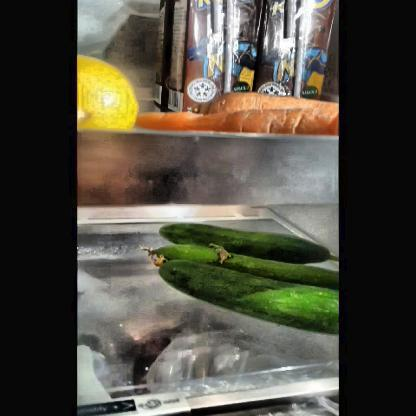carrot: (141, 111, 340, 135), (212, 91, 337, 108)
cucumber: (153, 262, 338, 332)
lemon: (79, 53, 139, 128)
